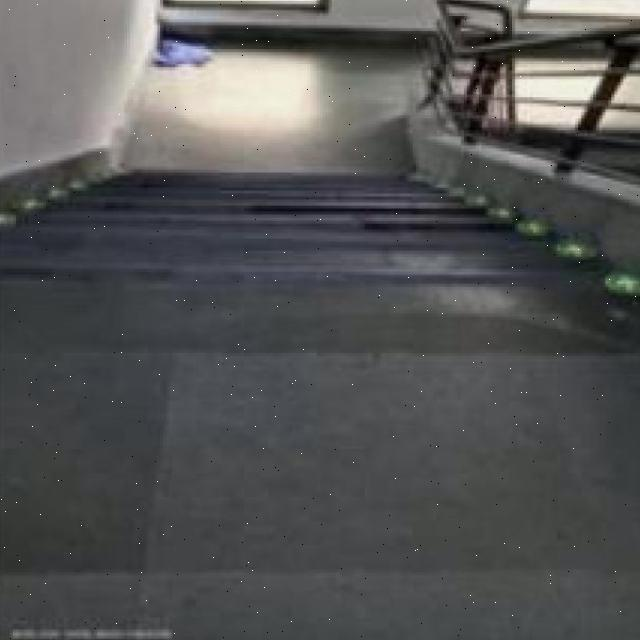stair: (31, 170, 479, 356)
